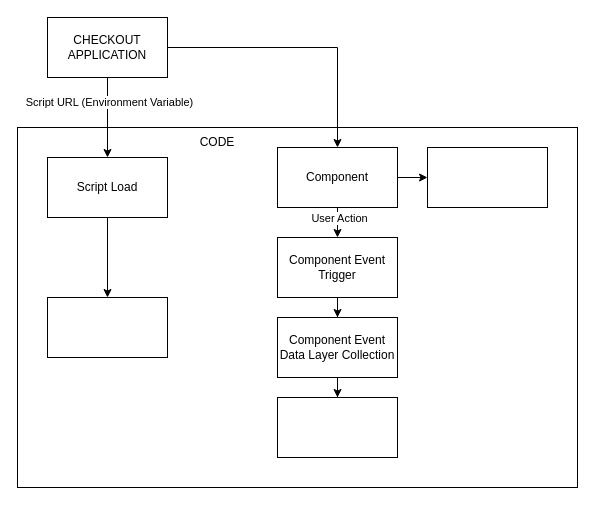
Some shapes in this 595 by 505 pixel diagram are drawn without their labels. Here are the shapes that lost their labels. From the top down, the centre of each, then its label:
[487,177]: Static HTML Element Tagging
[107,327]: Script Load Init
[337,427]: Analytics Provider Event Fire
